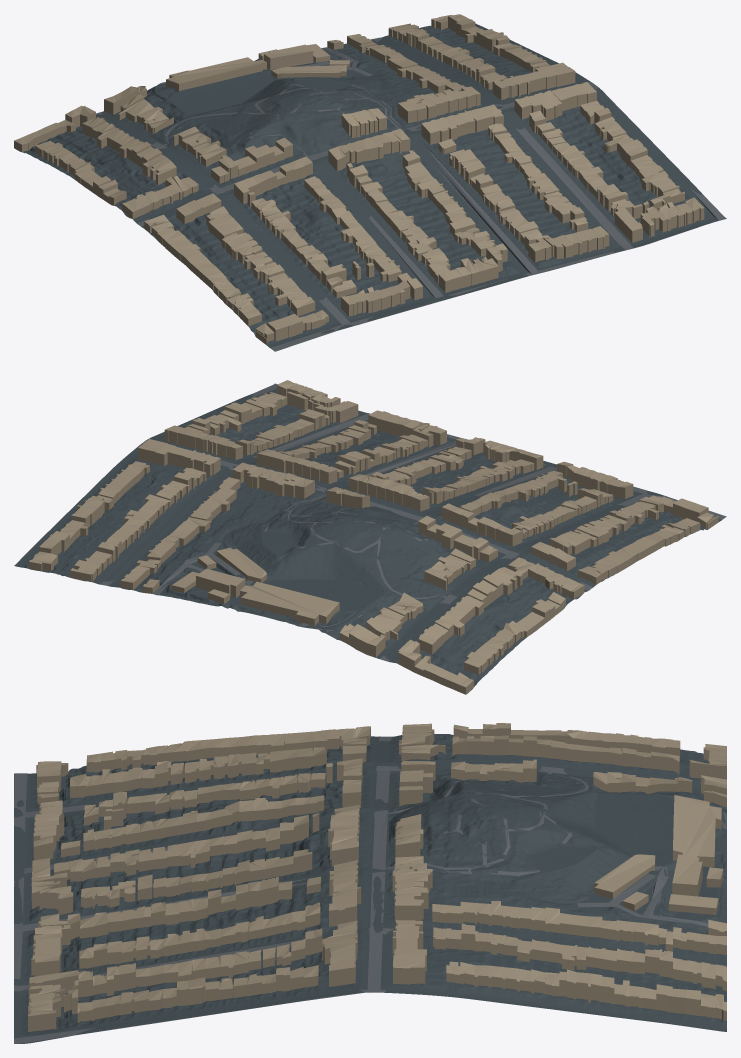
File: epsg26910-1424-10871.lod0.glb
3 views of the same model, one above another, from view 1: azimuth 30°, elevation 25°; view 2: azimuth 150°, elevation 25°; view 3: azimuth 270°, elevation 25° (orthographic). The views are drawn at different scales.
Visible parts, largest first — view 1: epsg26910-1424-10871-lod0; view 2: epsg26910-1424-10871-lod0; view 3: epsg26910-1424-10871-lod0.
Boxes of the visible parts, box(x1,y1,x2,y2) form: epsg26910-1424-10871-lod0: box(14, 14, 726, 351); epsg26910-1424-10871-lod0: box(14, 380, 726, 694); epsg26910-1424-10871-lod0: box(14, 723, 726, 1043).
Bounding box in the file's own units: 384 × 61.48 × 384.
